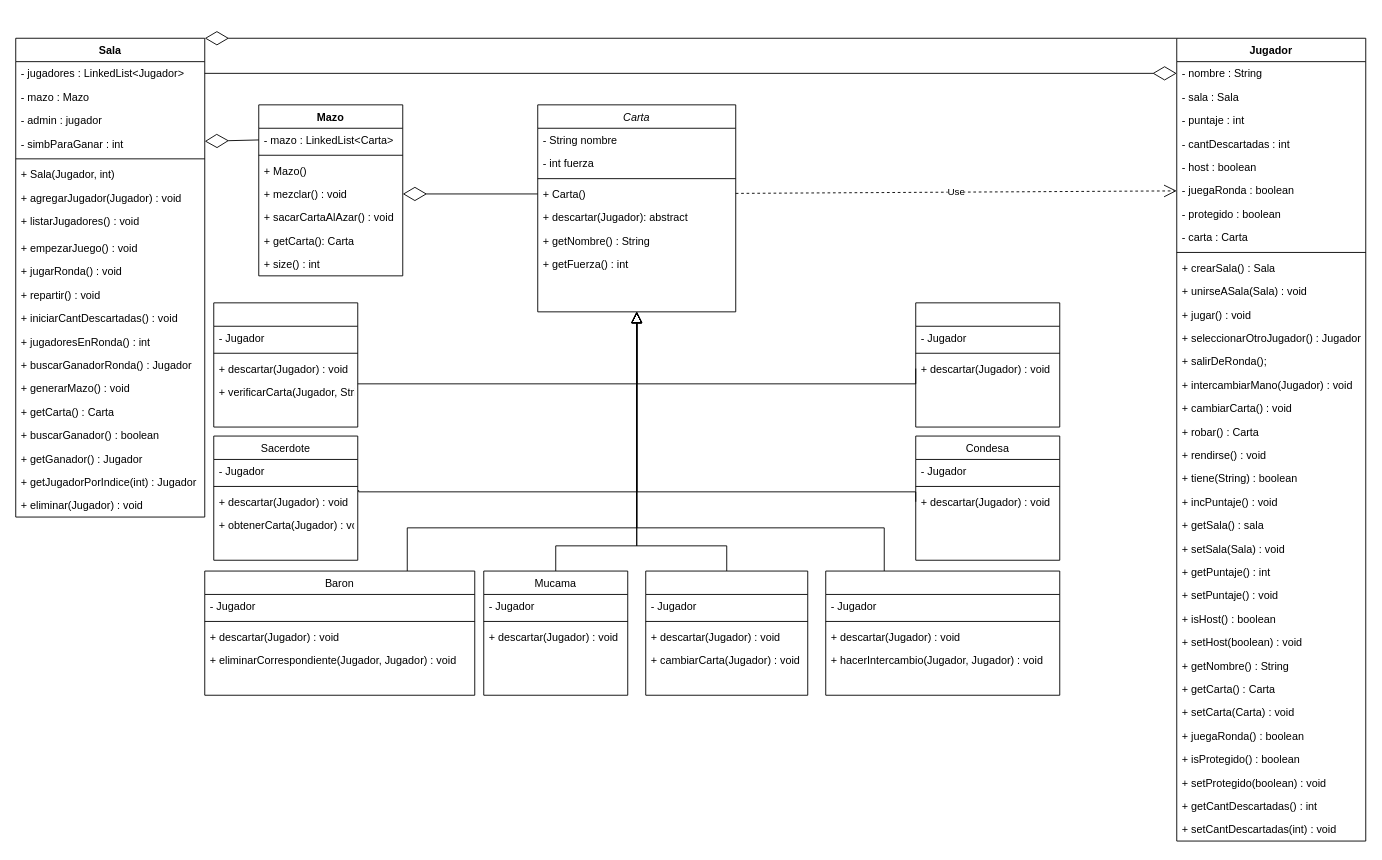
Some shapes in this 1382 by 860 pixel diagram are drawn without their labels. The box of each missing label's shape, as (x1, y1, x2, y2) in pixels:
Guardia: (213, 302, 358, 427)
Princesa: (915, 302, 1060, 427)
Principe: (645, 570, 808, 695)
Rey: (825, 570, 1060, 695)
